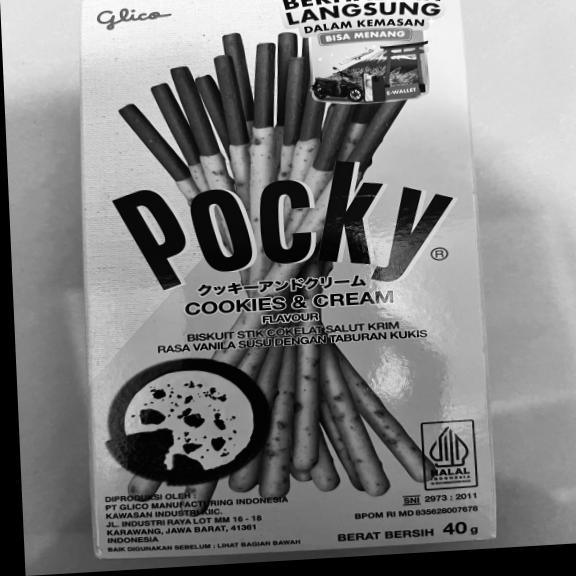Kertas: (71, 0, 486, 560)
